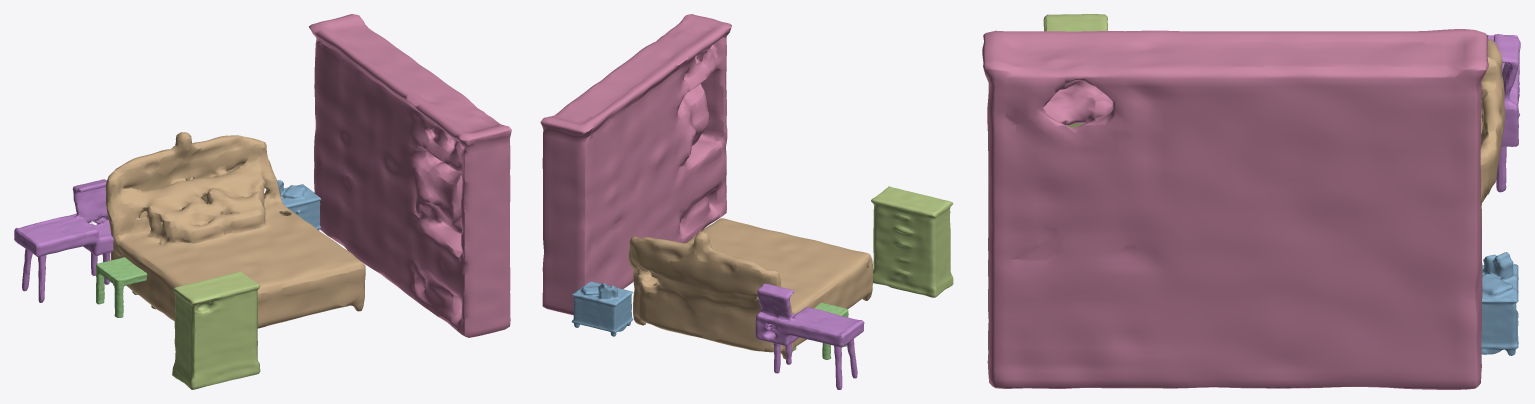
File: MasterBedroom-33296_echoscene.glb
The picture shows the model from 3 angles, left to right: view 1: azimuth 30°, elevation 25°; view 2: azimuth 150°, elevation 25°; view 3: azimuth 270°, elevation 25°; orthographic projection. The views are drawn at different scales.
Parts seen in each view (by area): view 1: world; view 2: world; view 3: world.
Part boxes in pixels (<box>): world: <box>14,14,511,389</box>; world: <box>540,14,953,389</box>; world: <box>982,14,1520,389</box>.
Size of the model in its own units: 4.02 by 2.36 by 3.51.
